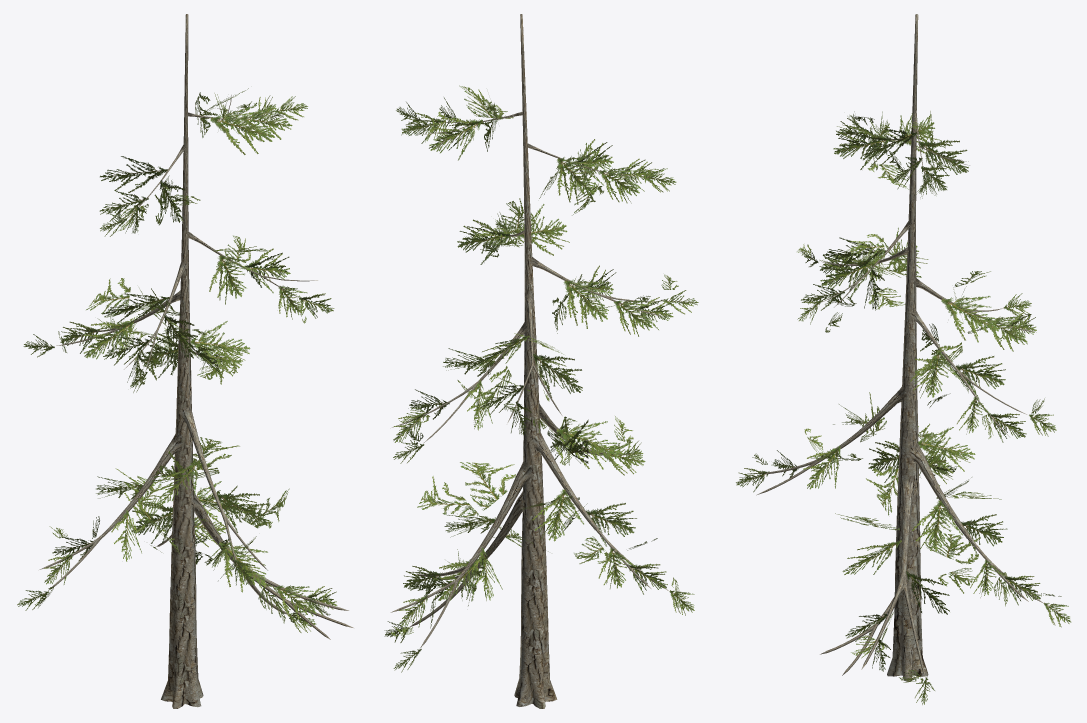
The picture shows the model from 3 angles, left to right: view 1: azimuth 30°, elevation 25°; view 2: azimuth 150°, elevation 25°; view 3: azimuth 270°, elevation 25°; orthographic projection. The views are drawn at different scales.
Visible parts, largest first — view 1: branch08_1, bark10_0, branch08_2; view 2: branch08_1, bark10_0, branch08_2; view 3: branch08_1, bark10_0, branch08_2.
Part boxes in pixels (left/top/right/bottom): branch08_1: left=17, top=93, right=337, bottom=632; bark10_0: left=39, top=14, right=353, bottom=708; branch08_2: left=38, top=88, right=330, bottom=624; branch08_1: left=384, top=96, right=698, bottom=672; bark10_0: left=390, top=14, right=669, bottom=708; branch08_2: left=391, top=85, right=680, bottom=636; branch08_1: left=736, top=111, right=1071, bottom=704; bark10_0: left=756, top=14, right=1044, bottom=681; branch08_2: left=752, top=111, right=1061, bottom=683.
Size of the model in its own units: 978 by 2048 by 956.
Materials: 2 (2 with a texture image).
